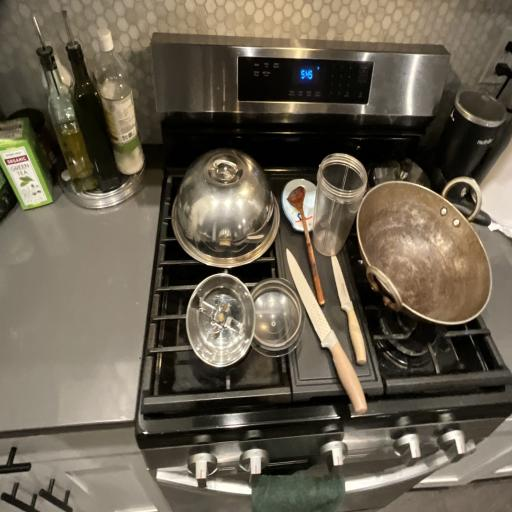Pan: (350, 164, 494, 332)
Stove: (131, 109, 512, 479)
knife: (282, 235, 372, 414), (327, 233, 371, 382)
